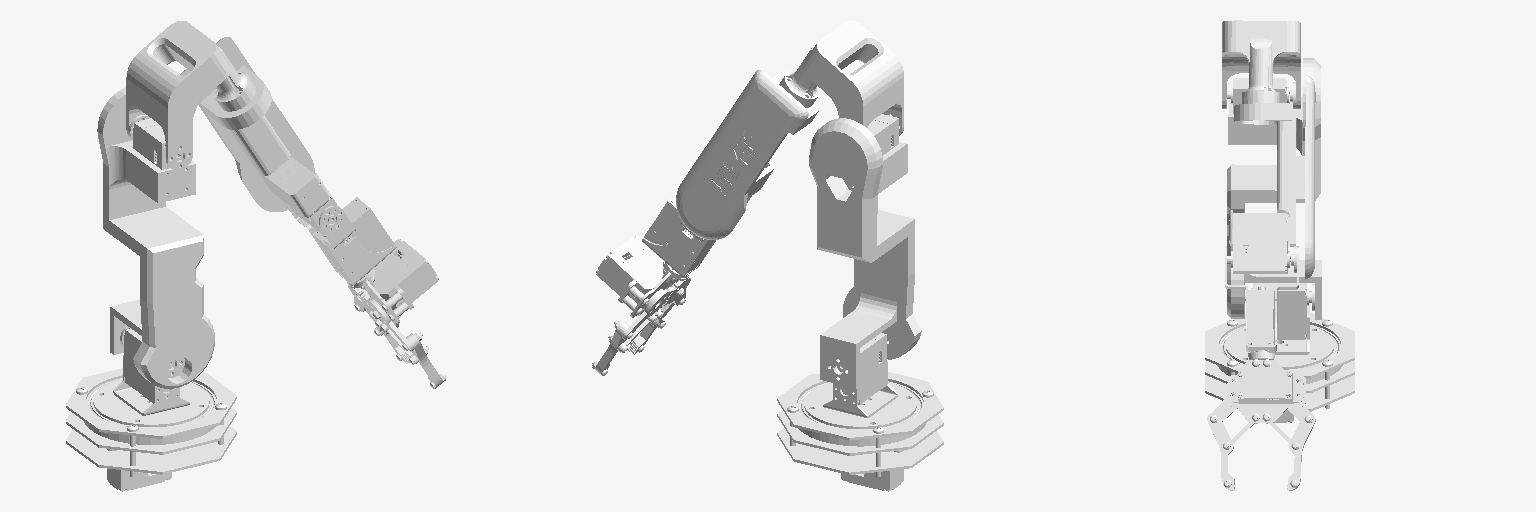
The robot description file, URDF, robot "star_":
<?xml version="1.0" encoding="utf-8"?>
<!-- This URDF was automatically created by SolidWorks to URDF Exporter! Originally created by Stephen Brawner (brawner@gmail.com) 
     Commit Version: 2.1.0-preview+a777a5df7fcf83c5797e6215b2dd953ad332730e  Build Version: 2.1.0.0
     For more information, please see http://wiki.ros.org/sw_urdf_exporter -->
<robot
  name="star_">
  <link
    name="base_link">
    <inertial>
      <origin
        xyz="-0.00418093398411766 1.69153799972621E-06 0.00470569916768271"
        rpy="0 0 0" />
      <mass
        value="0.0936839180393403" />
      <inertia
        ixx="6.42702477347485E-05"
        ixy="6.66890540853502E-10"
        ixz="-8.08944848237334E-08"
        iyy="6.7247351006805E-05"
        iyz="-5.95501996520373E-11"
        izz="0.000121994615812578" />
    </inertial>
    <visual>
      <origin
        xyz="0 0 0"
        rpy="0 0 0" />
      <geometry>
        <mesh
          filename="package://star_/meshes/base_link.STL" />
      </geometry>
      <material
        name="">
        <color
          rgba="1 1 1 1" />
      </material>
    </visual>
    <collision>
      <origin
        xyz="0 0 0"
        rpy="0 0 0" />
      <geometry>
        <mesh
          filename="package://star_/meshes/base_link.STL" />
      </geometry>
    </collision>
  </link>
  <link
    name="l1">
    <inertial>
      <origin
        xyz="-1.91919613791447E-05 0.000383275545437857 0.0132943739623144"
        rpy="0 0 0" />
      <mass
        value="0.0570537789750849" />
      <inertia
        ixx="1.82478250442438E-05"
        ixy="-3.33602048925647E-08"
        ixz="-3.7212298473316E-10"
        iyy="1.39560065233058E-05"
        iyz="-2.92175842064467E-08"
        izz="2.30548729305443E-05" />
    </inertial>
    <visual>
      <origin
        xyz="0 0 0"
        rpy="0 0 0" />
      <geometry>
        <mesh
          filename="package://star_/meshes/l1.STL" />
      </geometry>
      <material
        name="">
        <color
          rgba="1 1 1 1" />
      </material>
    </visual>
    <collision>
      <origin
        xyz="0 0 0"
        rpy="0 0 0" />
      <geometry>
        <mesh
          filename="package://star_/meshes/l1.STL" />
      </geometry>
    </collision>
  </link>
  <joint
    name="j1"
    type="revolute">
    <origin
      xyz="-0.000949892620019543 0 0.028"
      rpy="0 0 0" />
    <parent
      link="base_link" />
    <child
      link="l1" />
    <axis
      xyz="0 0 1" />
    <limit
      lower="-3.14159"
      upper="3.14159"
      effort="10"
      velocity="3.14" />
  </joint>
  <link
    name="l2">
    <inertial>
      <origin
        xyz="-0.000792701804856216 0.0197935067680088 0.0993882135049424"
        rpy="0 0 0" />
      <mass
        value="0.202392084161304" />
      <inertia
        ixx="0.000211446677056536"
        ixy="-6.98632494026753E-07"
        ixz="2.20128727604779E-06"
        iyy="0.000182054146330372"
        iyz="4.06139441156158E-07"
        izz="8.97806506571594E-05" />
    </inertial>
    <visual>
      <origin
        xyz="0 0 0"
        rpy="0 0 0" />
      <geometry>
        <mesh
          filename="package://star_/meshes/l2.STL" />
      </geometry>
      <material
        name="">
        <color
          rgba="1 1 1 1" />
      </material>
    </visual>
    <collision>
      <origin
        xyz="0 0 0"
        rpy="0 0 0" />
      <geometry>
        <mesh
          filename="package://star_/meshes/l2.STL" />
      </geometry>
    </collision>
  </link>
  <joint
    name="j2"
    type="revolute">
    <origin
      xyz="-8.69818051223159E-05 -0.0260000991690266 0.0374011585138861"
      rpy="0 0 0" />
    <parent
      link="l1" />
    <child
      link="l2" />
    <axis
      xyz="-0.00768358184423042 -0.999970480849331 0" />
    <limit
      lower="-1.5708"
      upper="1.5708"
      effort="10"
      velocity="3.14" />
  </joint>
  <link
    name="l3">
    <inertial>
      <origin
        xyz="0.0626838451084341 -0.013374474303397 -0.00055111641762251"
        rpy="0 0 0" />
      <mass
        value="0.21202882538679" />
      <inertia
        ixx="0.00015381544467866"
        ixy="-4.25845151922456E-07"
        ixz="4.29738735681153E-05"
        iyy="0.000193077034504643"
        iyz="1.51016830583816E-07"
        izz="0.000111151250115021" />
    </inertial>
    <visual>
      <origin
        xyz="0 0 0"
        rpy="0 0 0" />
      <geometry>
        <mesh
          filename="package://star_/meshes/l3.STL" />
      </geometry>
      <material
        name="">
        <color
          rgba="1 1 1 1" />
      </material>
    </visual>
    <collision>
      <origin
        xyz="0 0 0"
        rpy="0 0 0" />
      <geometry>
        <mesh
          filename="package://star_/meshes/l3.STL" />
      </geometry>
    </collision>
  </link>
  <joint
    name="j3"
    type="revolute">
    <origin
      xyz="-0.00096191340331378 0.0357084450233305 0.163035991367821"
      rpy="0 0 0" />
    <parent
      link="l2" />
    <child
      link="l3" />
    <axis
      xyz="-0.00768358184422859 -0.999970480849331 0" />
    <limit
      lower="-1.5708"
      upper="1.5708"
      effort="10"
      velocity="3.14" />
  </joint>
  <link
    name="l4">
    <inertial>
      <origin
        xyz="0.0497386571922581 -0.0224088104004599 -0.0609262562328686"
        rpy="0 0 0" />
      <mass
        value="0.0896047143366241" />
      <inertia
        ixx="1.86926252695652E-05"
        ixy="1.2785373644018E-07"
        ixz="1.16858530646368E-06"
        iyy="2.02414617982055E-05"
        iyz="5.93047033219114E-08"
        izz="1.86129057008722E-05" />
    </inertial>
    <visual>
      <origin
        xyz="0 0 0"
        rpy="0 0 0" />
      <geometry>
        <mesh
          filename="package://star_/meshes/l4.STL" />
      </geometry>
      <material
        name="">
        <color
          rgba="1 1 1 1" />
      </material>
    </visual>
    <collision>
      <origin
        xyz="0 0 0"
        rpy="0 0 0" />
      <geometry>
        <mesh
          filename="package://star_/meshes/l4.STL" />
      </geometry>
    </collision>
  </link>
  <joint
    name="j4"
    type="revolute">
    <origin
      xyz="0.121630056473796 0.000323108572764387 -0.0765398613986167"
      rpy="0 0 0" />
    <parent
      link="l3" />
    <child
      link="l4" />
    <axis
      xyz="-0.00768358184430891 -0.999970480849331 0" />
    <limit
      lower="-1.5708"
      upper="1.5708"
      effort="10"
      velocity="3.14" />
  </joint>
</robot>

--- Facts derived from the render (not from the file) ---
The picture shows the robot from 3 angles, left to right: view 1: azimuth 30°, elevation 25°; view 2: azimuth 150°, elevation 25°; view 3: azimuth 270°, elevation 25°; orthographic projection.
Robot: star_ — 5 links, 4 joints (4 revolute); root link base_link; default pose: every joint at zero.
Visible links, largest first — view 1: l2, l3, base_link, l4, l1; view 2: l2, l3, base_link, l4, l1; view 3: l3, l4, l2, base_link, l1.
Boxes of the visible links, x1,y1,x2,y2 form: l2: [97, 87, 214, 388]; l3: [126, 21, 340, 234]; base_link: [66, 368, 236, 491]; l4: [283, 197, 445, 388]; l1: [93, 326, 209, 426]; l2: [809, 114, 921, 388]; l3: [676, 20, 903, 239]; base_link: [777, 372, 943, 491]; l4: [592, 196, 751, 375]; l1: [804, 333, 916, 428]; l3: [1222, 20, 1315, 279]; l4: [1207, 246, 1315, 490]; l2: [1227, 58, 1321, 319]; base_link: [1205, 313, 1354, 422]; l1: [1226, 283, 1333, 369].
Size in the robot's own frame: 0.2679 by 0.11 by 0.3363 metres.
5 mesh visuals loaded from 5 distinct referenced files (5 binary STL).
